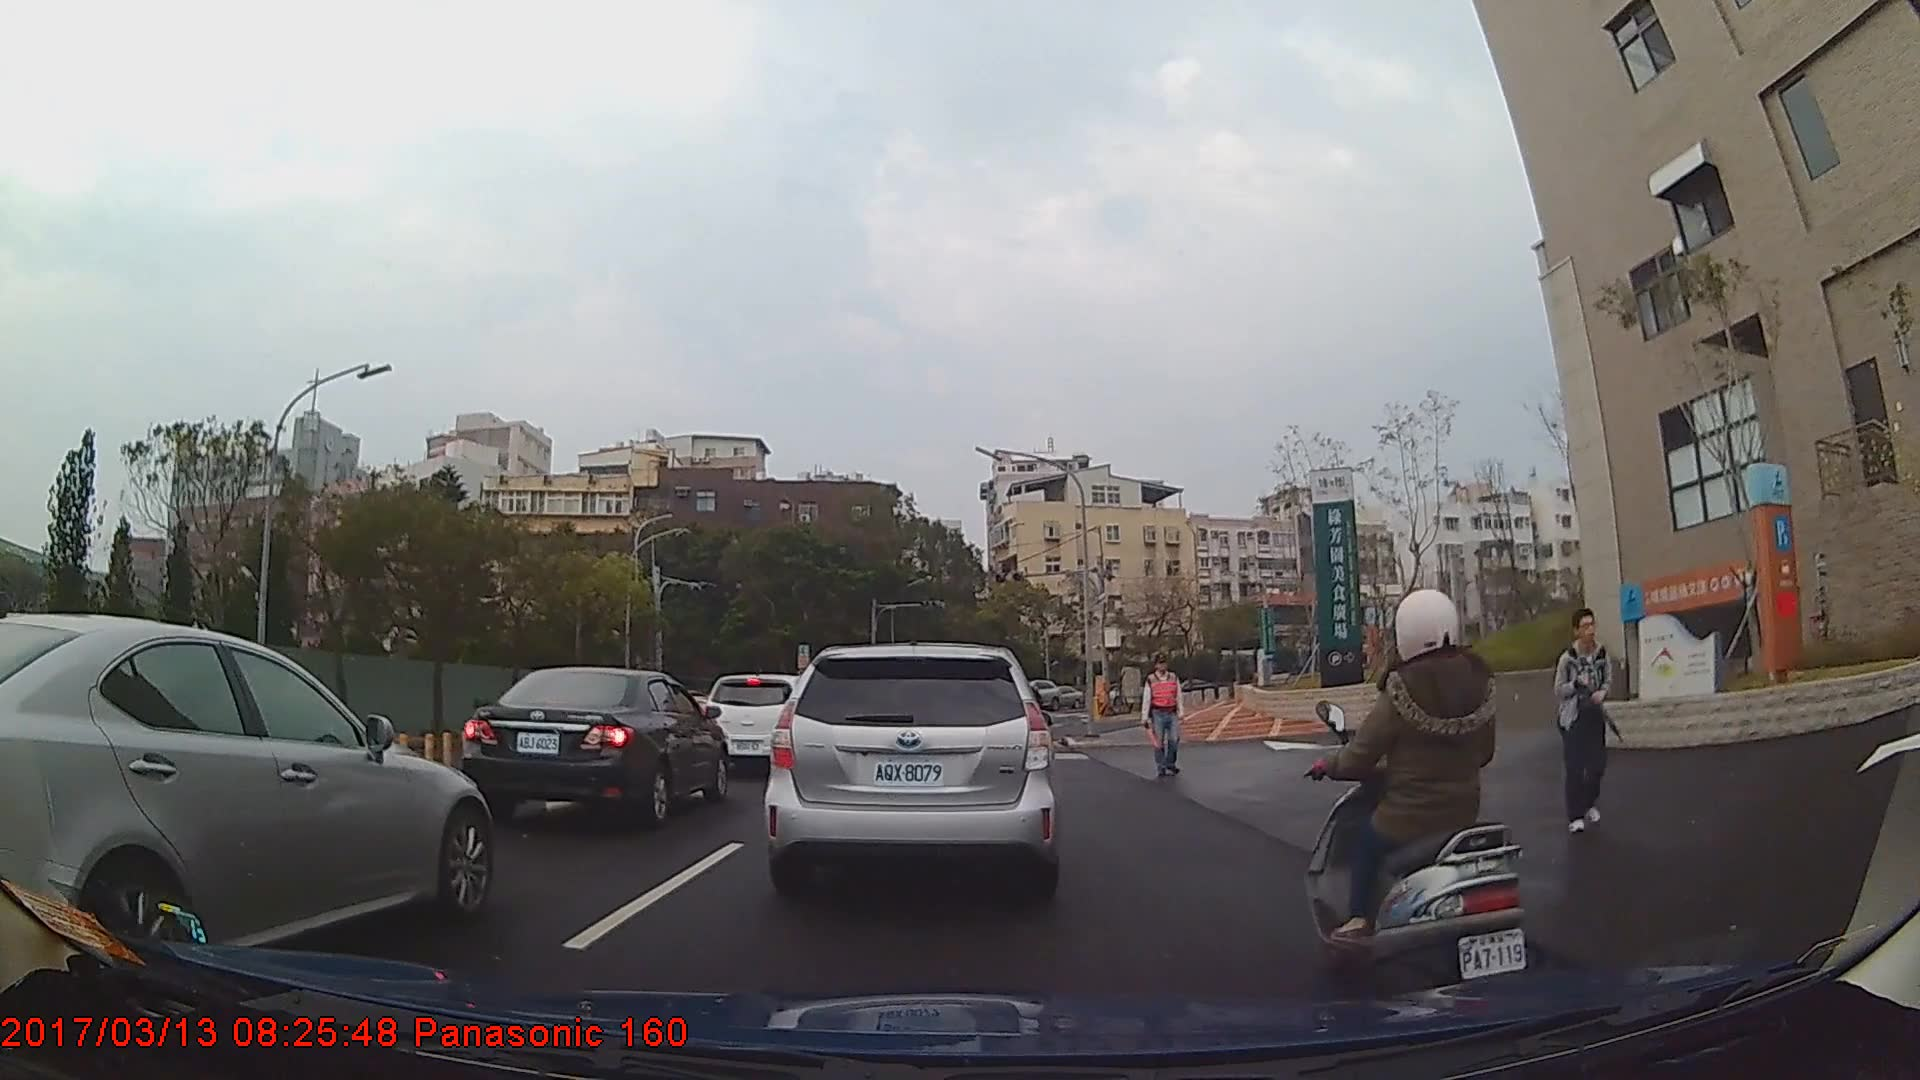pedestrian: (1554, 609, 1617, 834), (1140, 652, 1190, 783)
rider: (1298, 588, 1541, 1022)
vehicle: (0, 609, 494, 971), (765, 642, 1062, 901), (462, 665, 731, 830), (709, 674, 820, 768), (1045, 684, 1085, 713)
